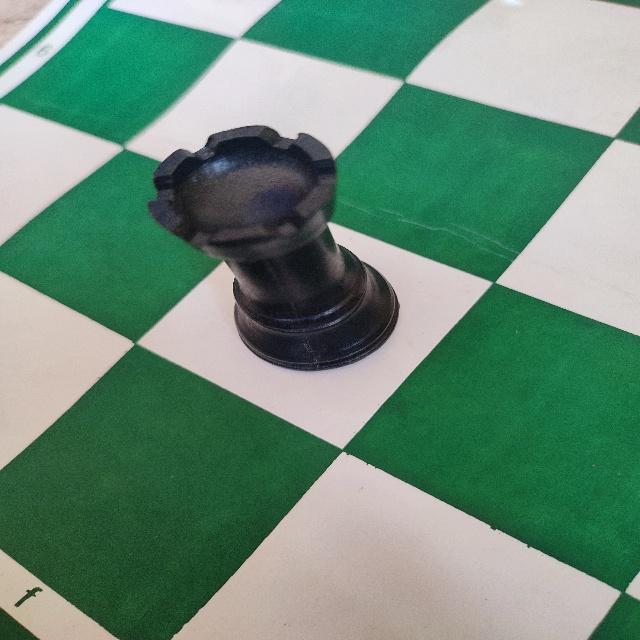Rook: (146, 122, 402, 372)
